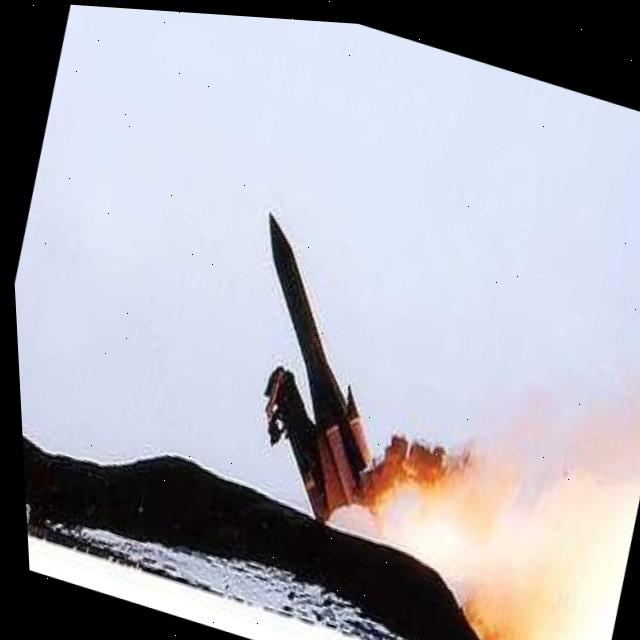missile: (201, 199, 438, 509)
